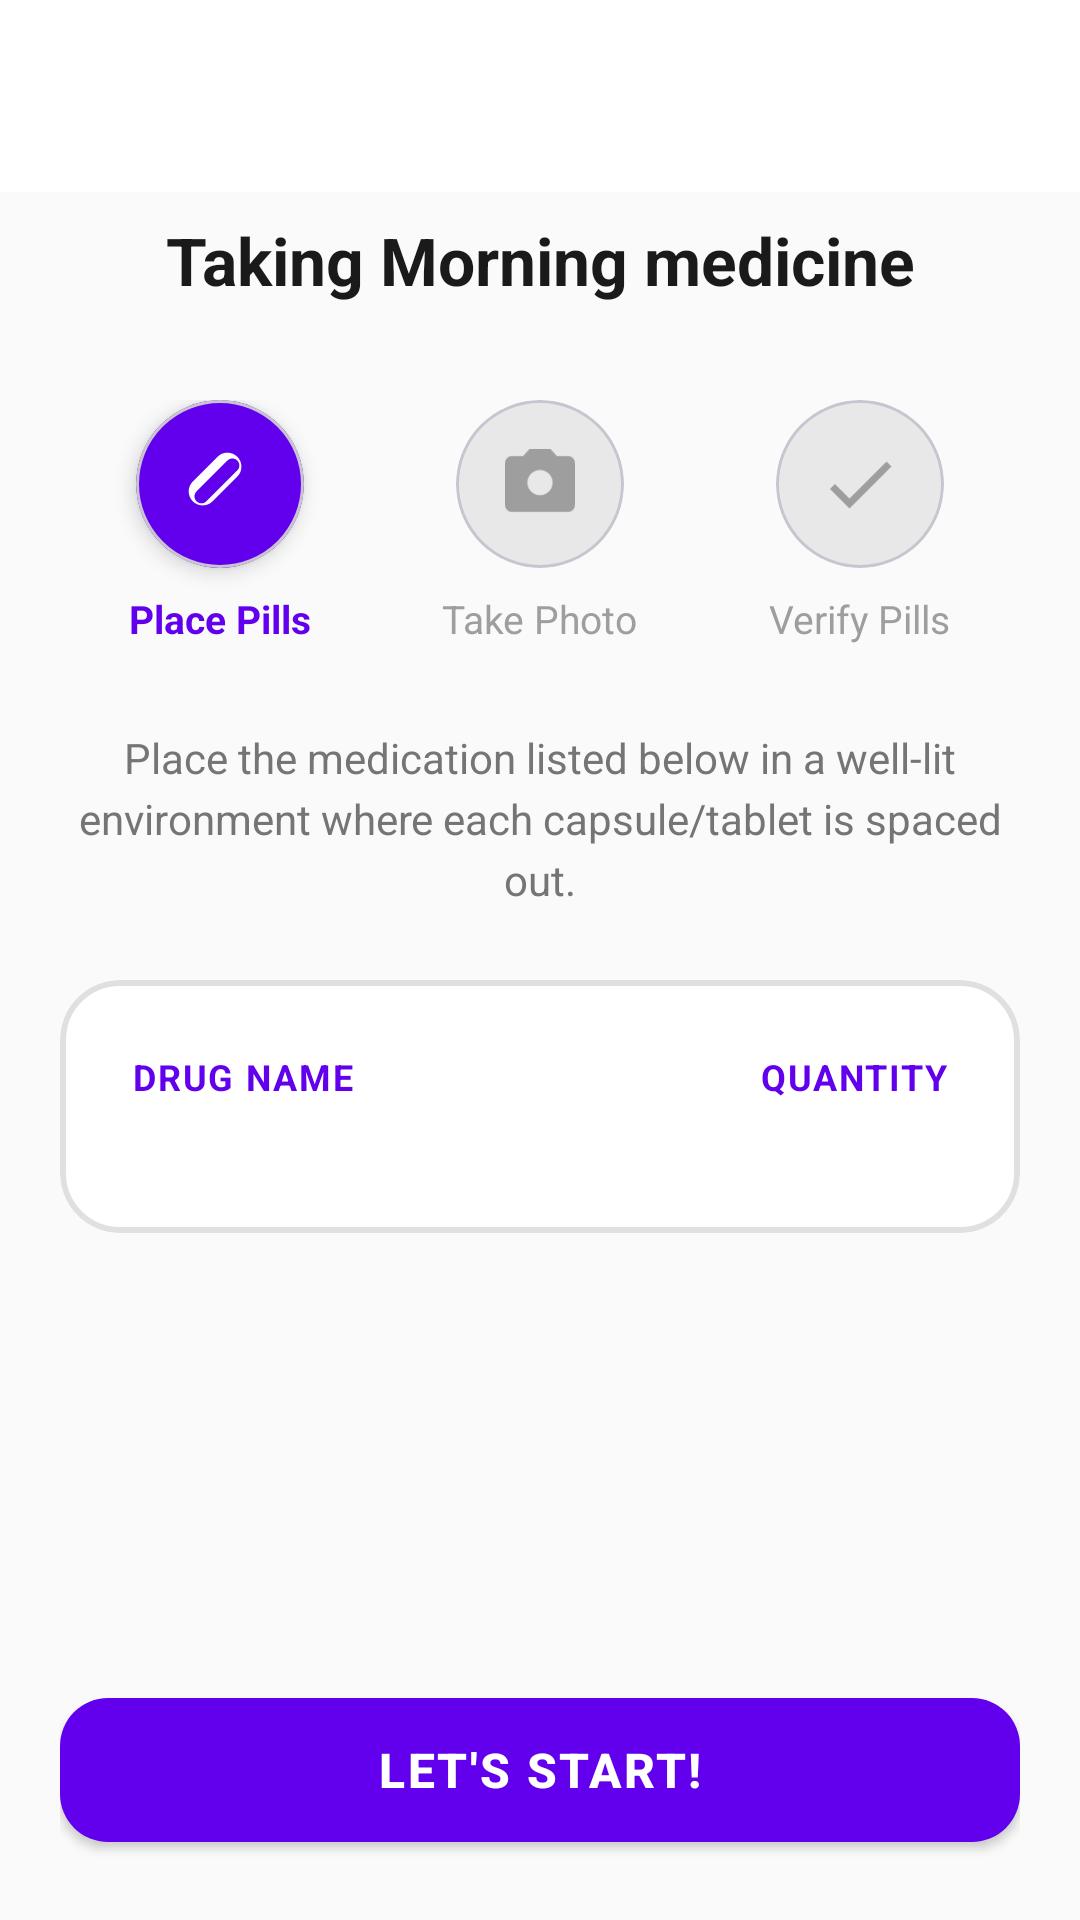

Icon bounding boxes for this 1080px x 1920px phone screenshot, format (x1, y1, x2, y2):
camera: (505, 449, 575, 512)
check: (830, 462, 891, 508)
